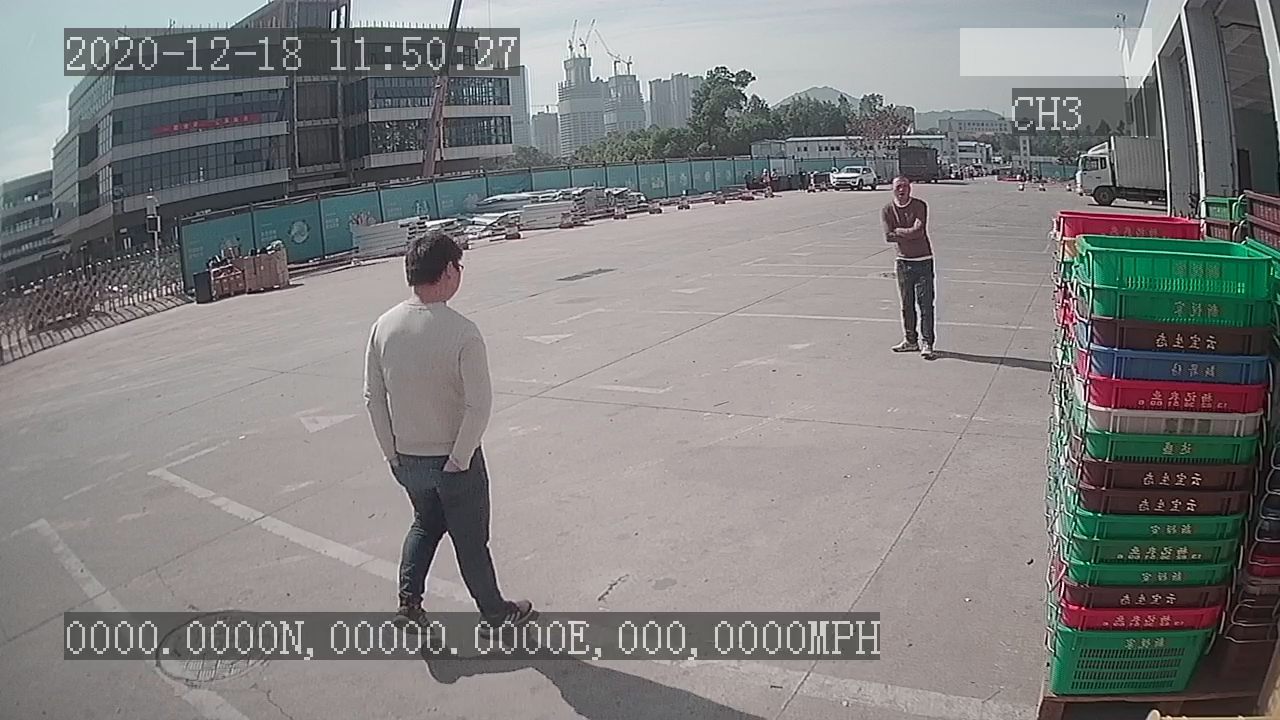person: (876, 174, 943, 363)
